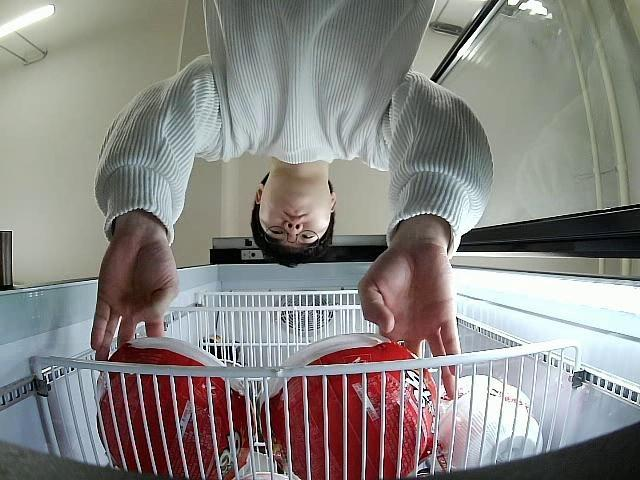10_wangTtukkeong: (262, 331, 439, 480), (98, 339, 255, 480)
